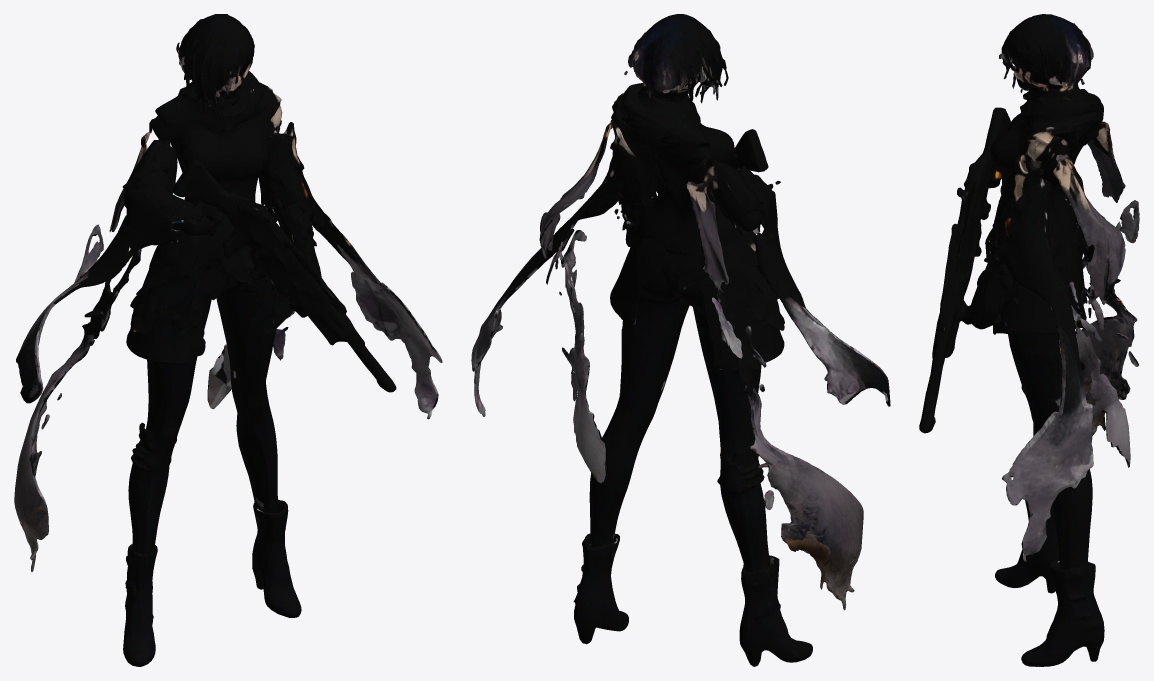
File: specops.glb
3 renders of one model, left to right at view 1: azimuth 30°, elevation 25°; view 2: azimuth 150°, elevation 25°; view 3: azimuth 270°, elevation 25°, orthographic. The views are drawn at different scales.
Visible parts, largest first — view 1: textured.obj; view 2: textured.obj; view 3: textured.obj.
Part boxes in pixels (x1=…): textured.obj: x1=14, y1=14, x2=442, y2=666; textured.obj: x1=471, y1=14, x2=890, y2=666; textured.obj: x1=919, y1=14, x2=1139, y2=666.
Bounding box in the file's own units: 1.34 × 1.9 × 0.6162.
Materials: 1 (1 with a texture image).
